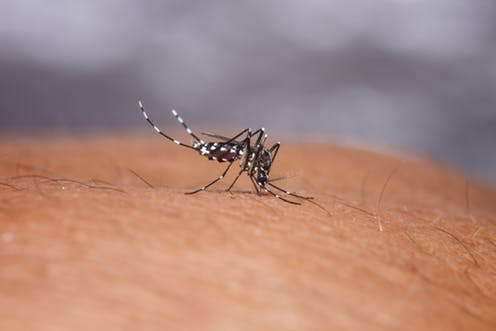dengue_mosquito: (139, 99, 315, 206)
